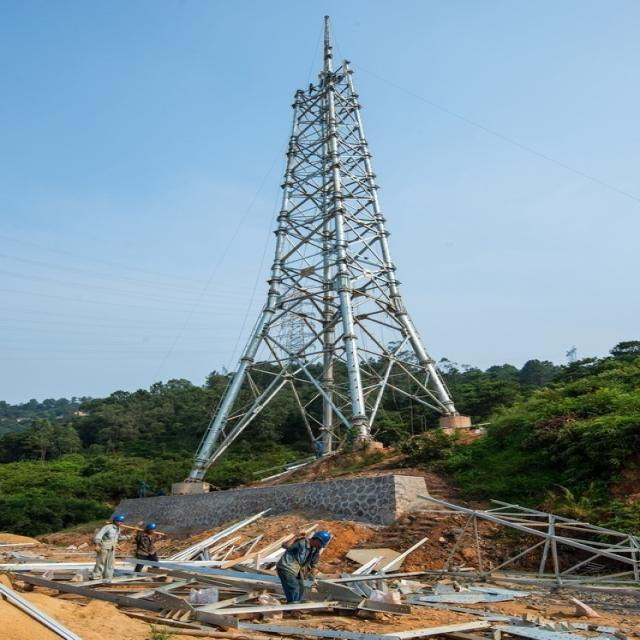non-critical vegetation: (192, 12, 477, 447)
